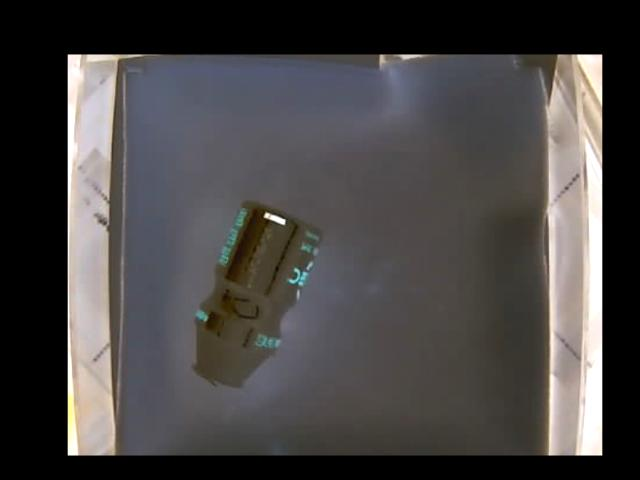Bottle: (191, 197, 323, 390)
